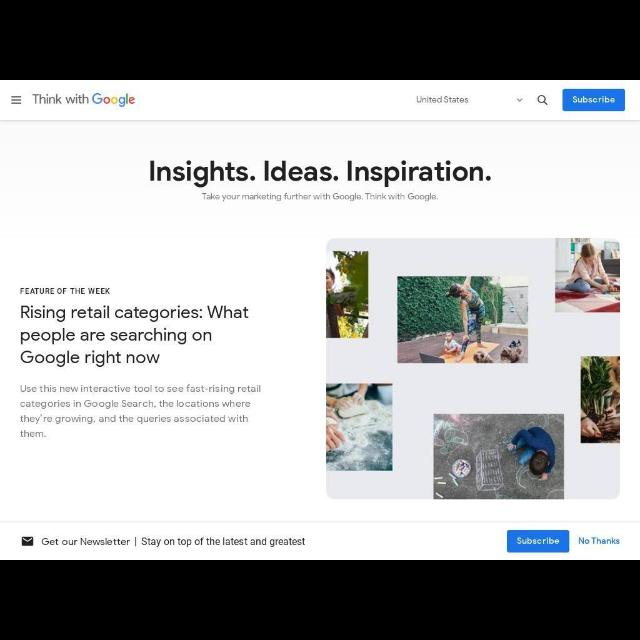icon: (18, 534, 34, 550), (10, 92, 24, 110), (538, 94, 550, 106), (515, 95, 523, 104)
image: (323, 236, 622, 502), (34, 90, 136, 112)
text: (18, 379, 264, 447), (20, 300, 254, 370), (144, 156, 494, 186), (201, 192, 439, 202), (142, 534, 306, 548), (17, 284, 111, 296), (41, 536, 131, 548), (416, 92, 469, 106), (578, 534, 620, 548), (573, 92, 615, 106), (517, 537, 561, 547)
textbutton: (506, 527, 570, 555), (560, 87, 626, 113)
toolbar: (1, 80, 639, 120)
